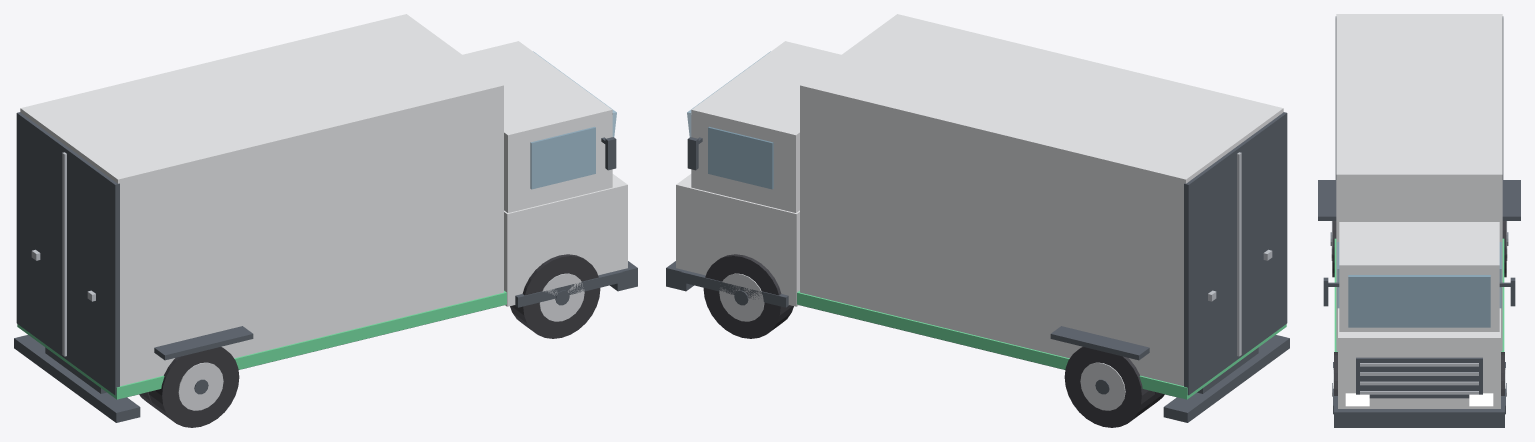
The model's file is truck.glb.
The picture shows the model from 3 angles, left to right: view 1: azimuth 30°, elevation 25°; view 2: azimuth 150°, elevation 25°; view 3: azimuth 270°, elevation 25°; orthographic projection. The views are drawn at different scales.
Visible parts, largest first — view 1: truck; view 2: truck; view 3: truck.
Boxes of the visible parts, x1,y1,x2,y2 form: truck: (14, 14, 637, 427); truck: (666, 14, 1289, 427); truck: (1318, 14, 1520, 427).
Size of the model in its own units: 6.53 by 3.15 by 2.56.
